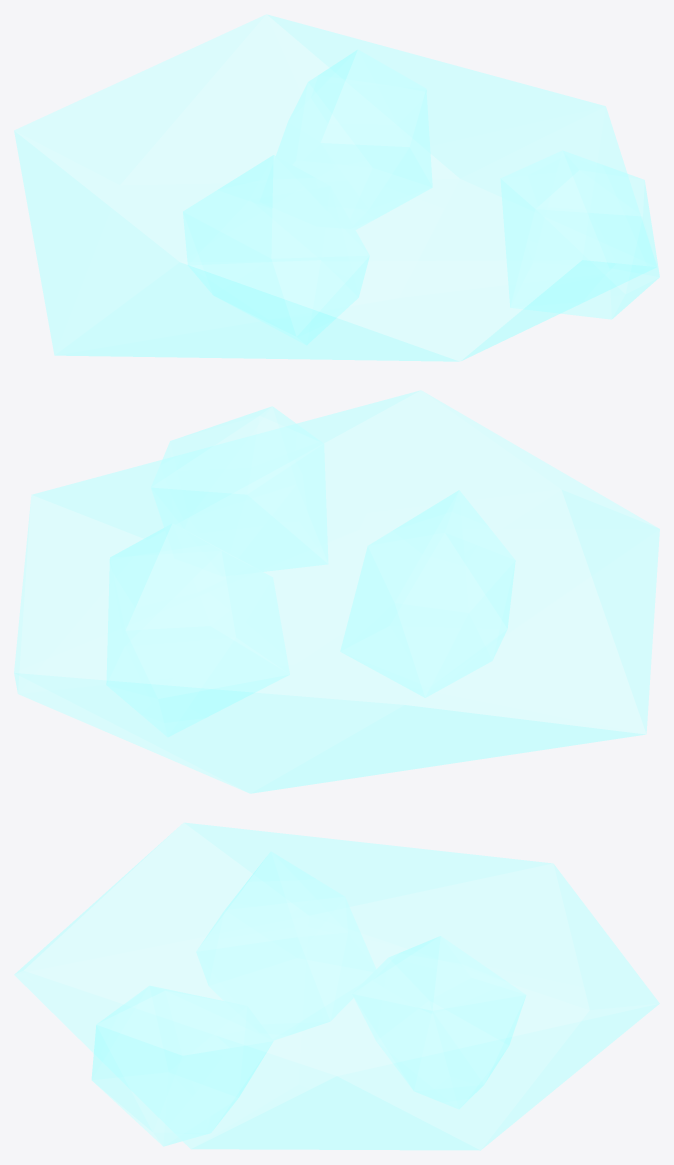
The model's file is GH_Ore_PileMed.fbx.
3 renders of one model, top to bottom at view 1: azimuth 30°, elevation 25°; view 2: azimuth 150°, elevation 25°; view 3: azimuth 270°, elevation 25°, orthographic. The views are drawn at different scales.
Parts seen in each view (by area): view 1: SM_Ore_PileMed; view 2: SM_Ore_PileMed; view 3: SM_Ore_PileMed.
Boxes of the visible parts, x1,y1,x2,y2 form: SM_Ore_PileMed: (14, 14, 659, 361); SM_Ore_PileMed: (14, 390, 659, 793); SM_Ore_PileMed: (14, 822, 659, 1150).
Bounding box in the file's own units: 0.8619 × 0.2914 × 0.9373.
